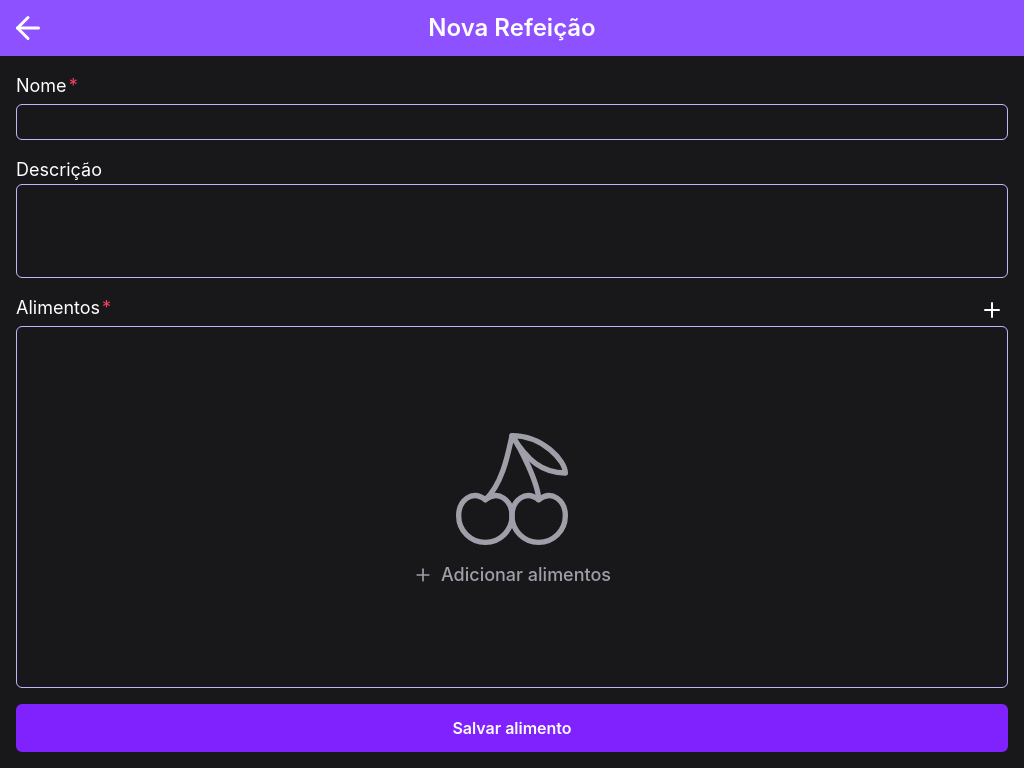
<CreateMealPage /> › should show validation errors when required fields are empty
Click the button with test id "submit-button".
click(512, 728)  # box [16,704,1008,752]
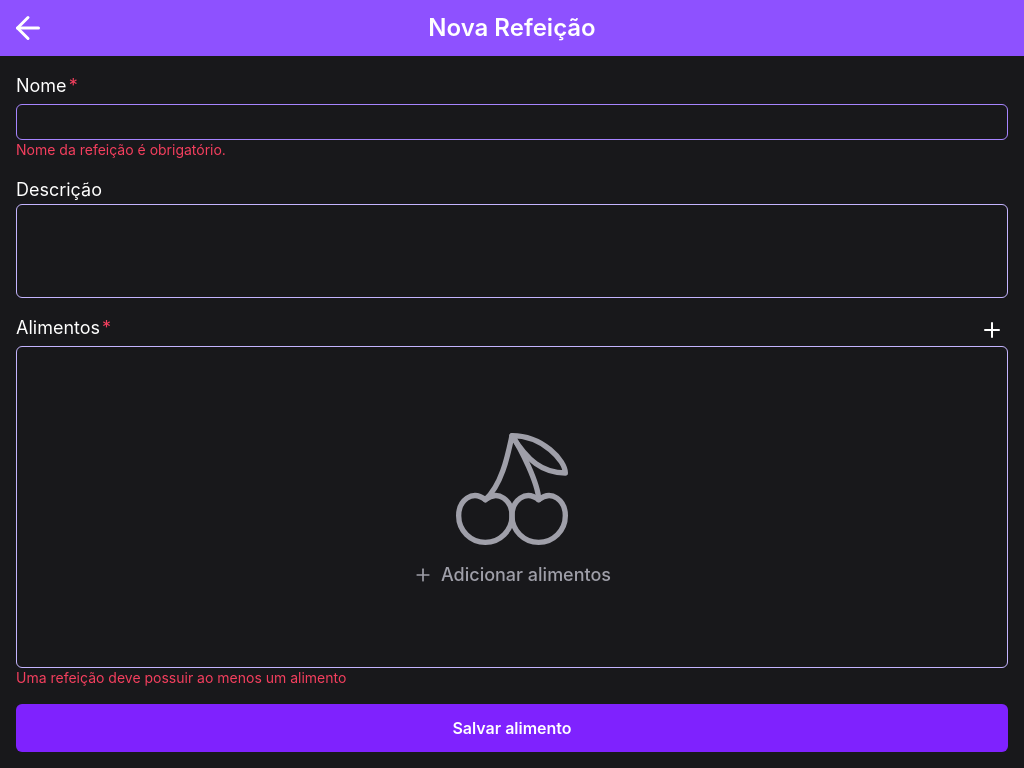
Expected: the number of elements with test id "error-message" is 2, [16,141,226,158]; [16,669,346,686]
